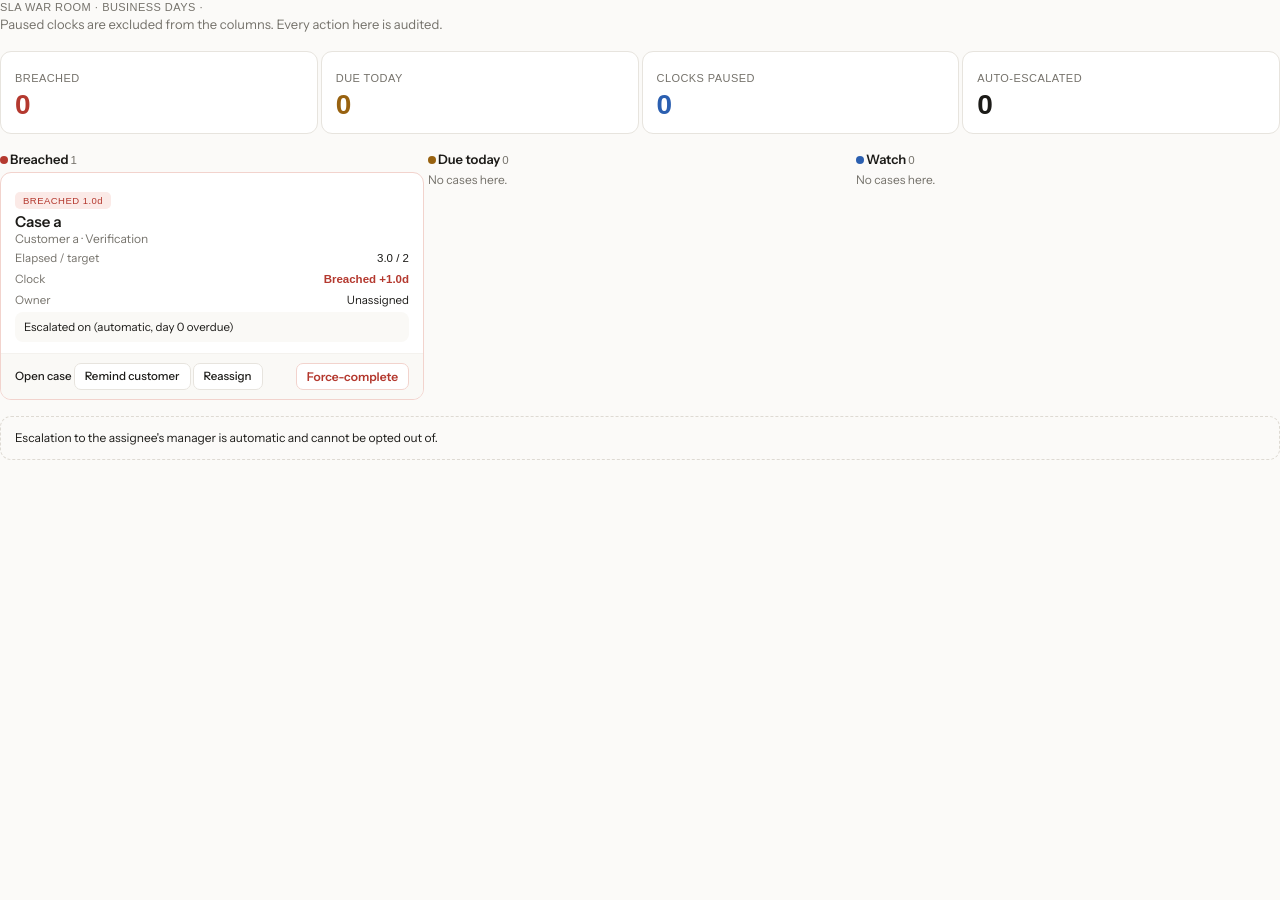
SLA war room page › card actions › Force-complete opens the milestone picker when no milestone escalation exists, then the reason dialog
This screenshot has width=1280, height=900.
Click the button "Force-complete" at (352, 377), box top-left (296, 363), bottom-right (409, 390)
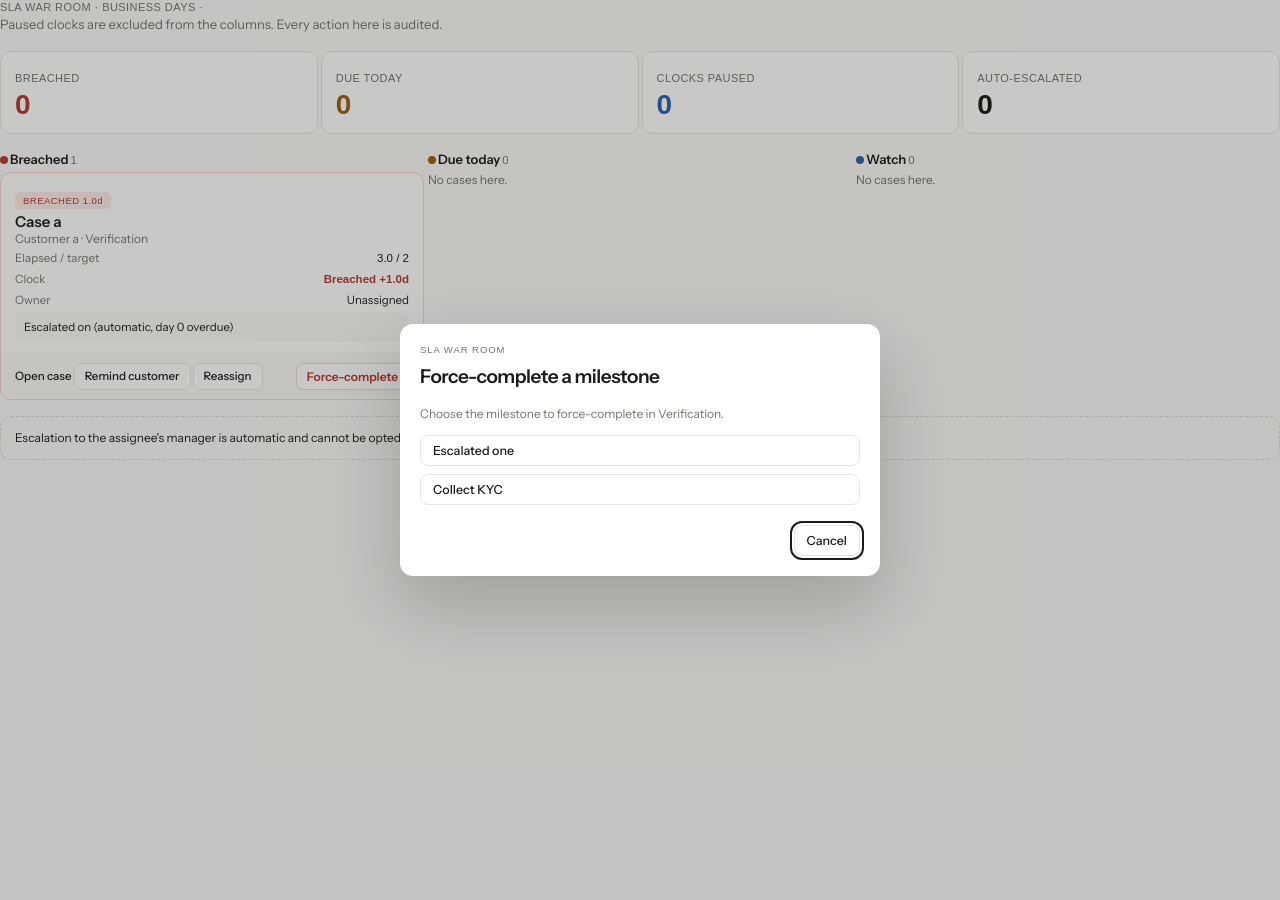
Click the button "Collect KYC" at (468, 489), box top-left (420, 474), bottom-right (860, 504)
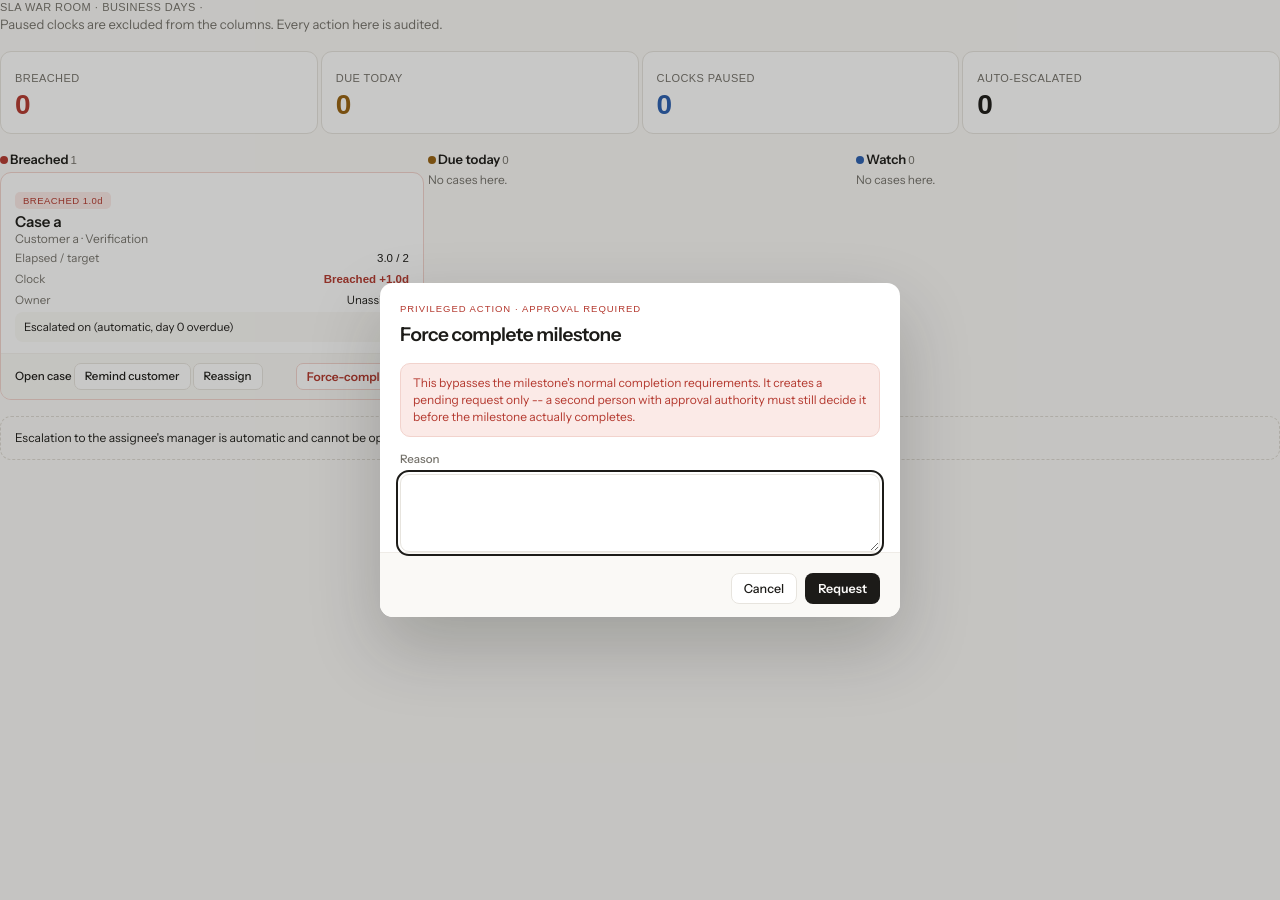
Now the text box labelled "Reason" is shown, box top-left (400, 474), bottom-right (880, 552)
